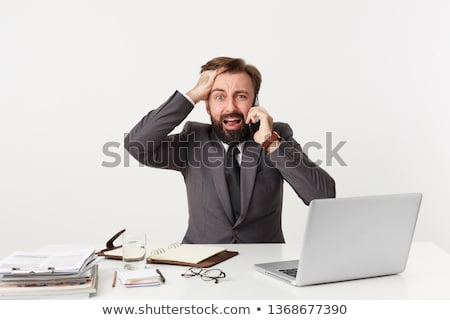phone: (250, 92, 266, 138)
talk: (209, 86, 276, 147)
